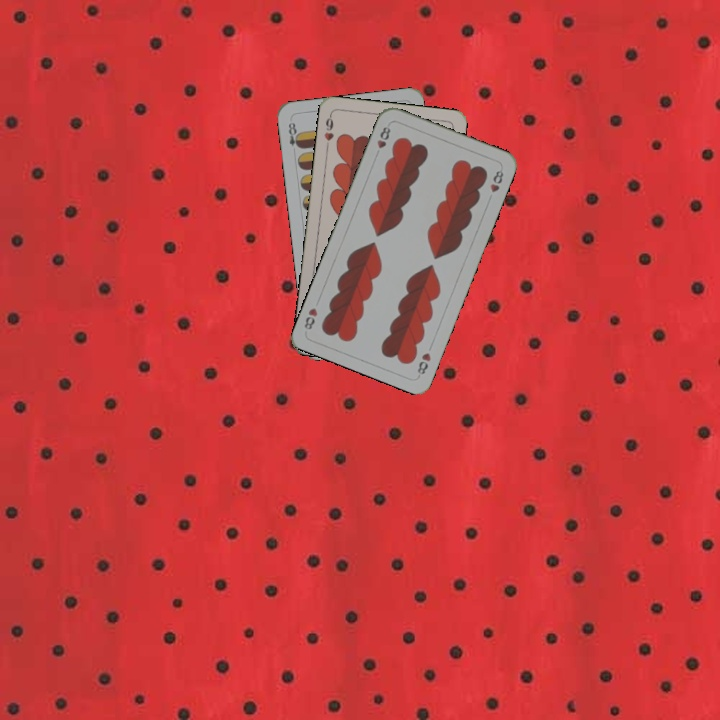E8: (284, 116, 303, 151)
H8: (371, 122, 393, 159), (413, 348, 434, 379)
H9: (320, 111, 336, 151)
